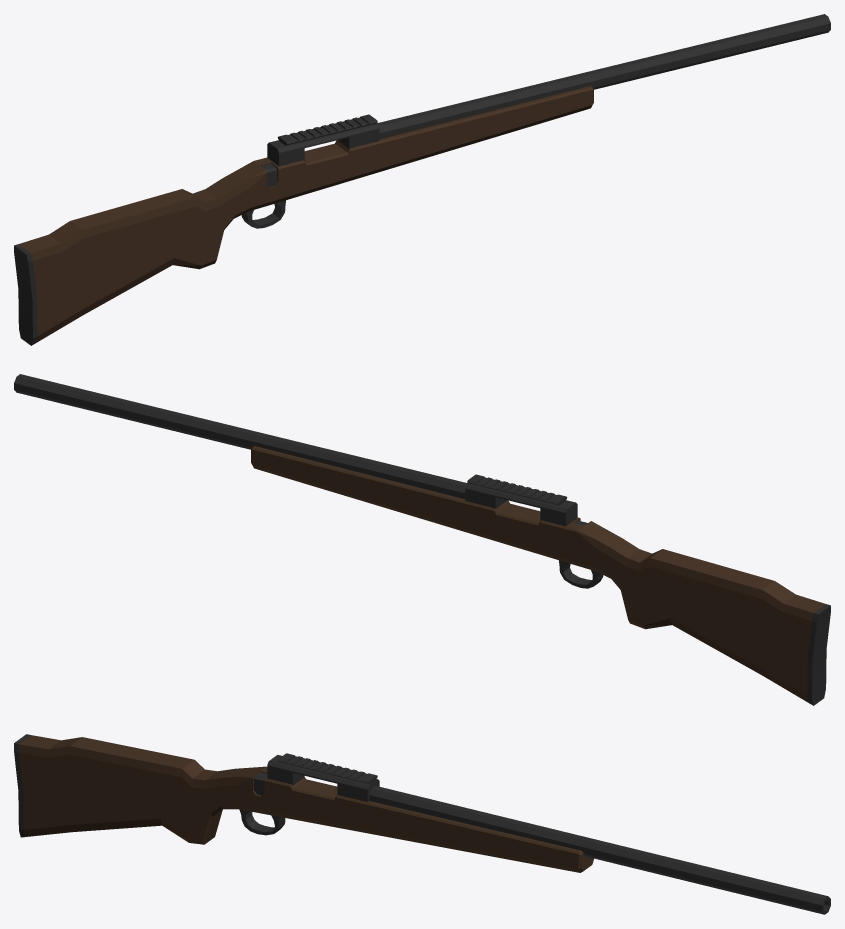
Rendered from SniperRifle3_03.fbx.
The picture shows the model from 3 angles, top to bottom: view 1: azimuth 30°, elevation 25°; view 2: azimuth 150°, elevation 25°; view 3: azimuth 330°, elevation 25°; orthographic projection.
Visible parts, largest first — view 1: SniperRifle3_03; view 2: SniperRifle3_03; view 3: SniperRifle3_03.
Part boxes in pixels (x1=…): SniperRifle3_03: x1=14, y1=14, x2=830, y2=345; SniperRifle3_03: x1=14, y1=374, x2=830, y2=705; SniperRifle3_03: x1=14, y1=734, x2=830, y2=914.
Size of the model in its own units: 1.22 by 0.2029 by 0.0371.
